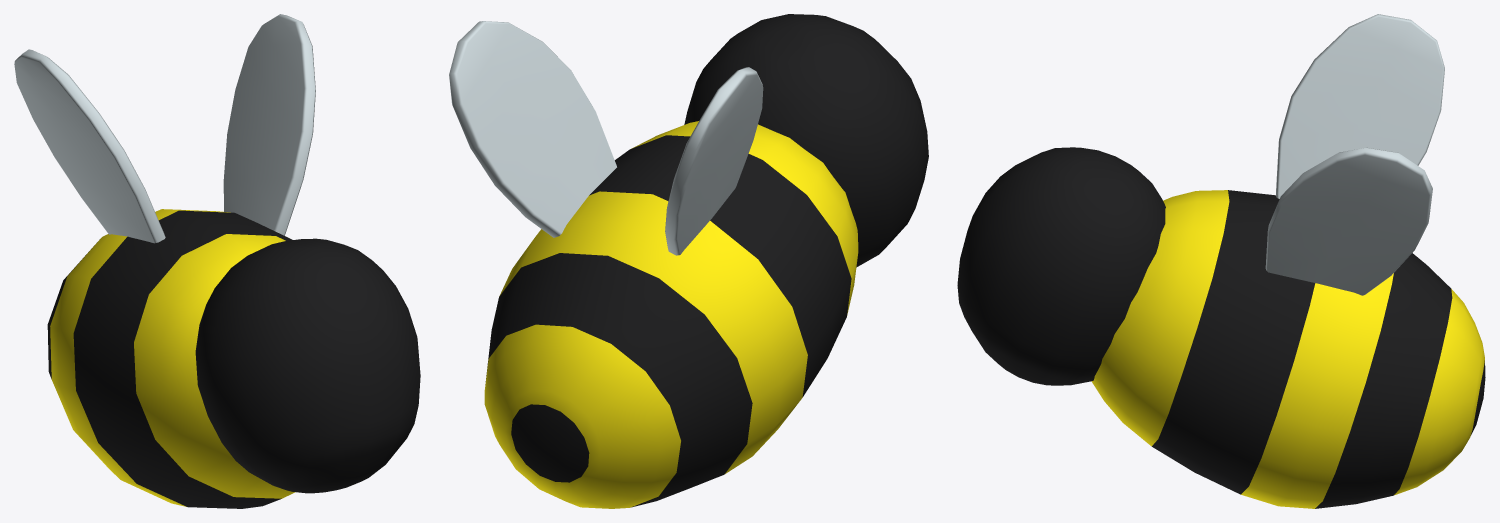
File: Farm_10_Bee_1.glb
3 views of the same model, side by side, from view 1: azimuth 30°, elevation 25°; view 2: azimuth 150°, elevation 25°; view 3: azimuth 270°, elevation 25° (orthographic). The views are drawn at different scales.
Visible parts, largest first — view 1: Farm_10_Bee_1; view 2: Farm_10_Bee_1; view 3: Farm_10_Bee_1.
Boxes of the visible parts, x1,y1,x2,y2 form: Farm_10_Bee_1: (14,14,420,508); Farm_10_Bee_1: (449,14,928,508); Farm_10_Bee_1: (957,14,1485,508).
Bounding box in the file's own units: 0.0635 × 0.0996 × 0.1127.
Materials: 1 (1 with a texture image).
